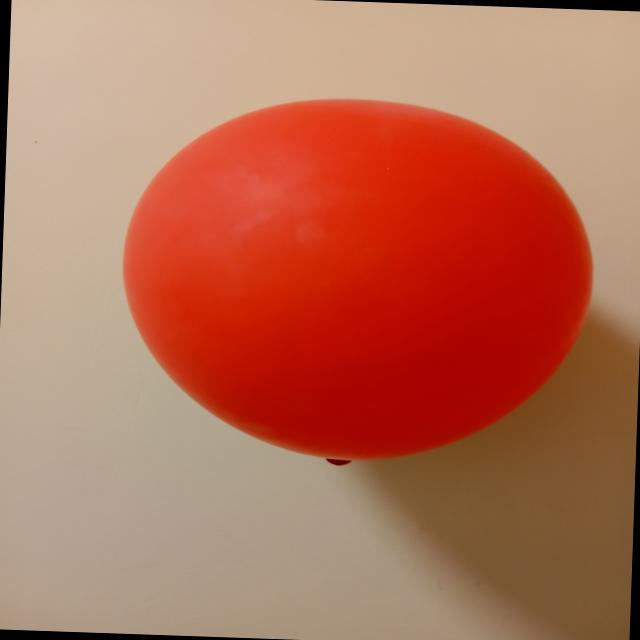balloon: (123, 99, 592, 462)
